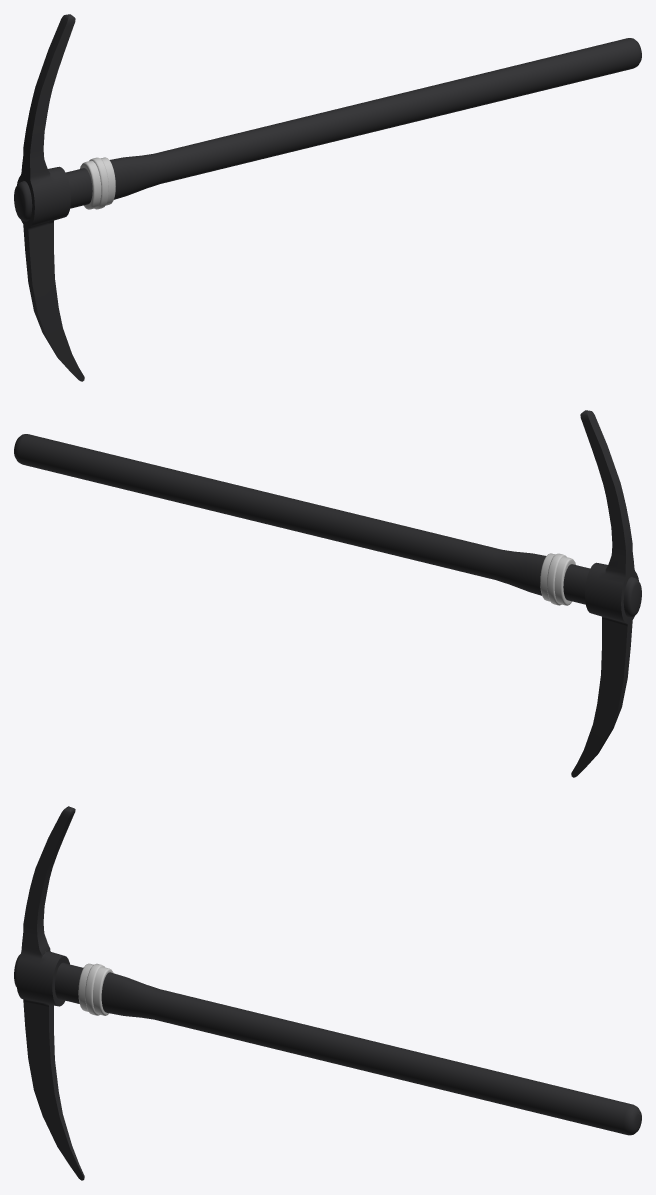
The model's file is Pick.fbx.
The picture shows the model from 3 angles, top to bottom: view 1: azimuth 30°, elevation 25°; view 2: azimuth 150°, elevation 25°; view 3: azimuth 330°, elevation 25°; orthographic projection.
Parts seen in each view (by area): view 1: Pickaxe; view 2: Pickaxe; view 3: Pickaxe.
Part boxes in pixels (<box>): Pickaxe: <box>14,14,641,381</box>; Pickaxe: <box>14,410,641,777</box>; Pickaxe: <box>14,806,641,1180</box>.
Bounding box in the file's own units: 112 × 63.96 × 5.87.
